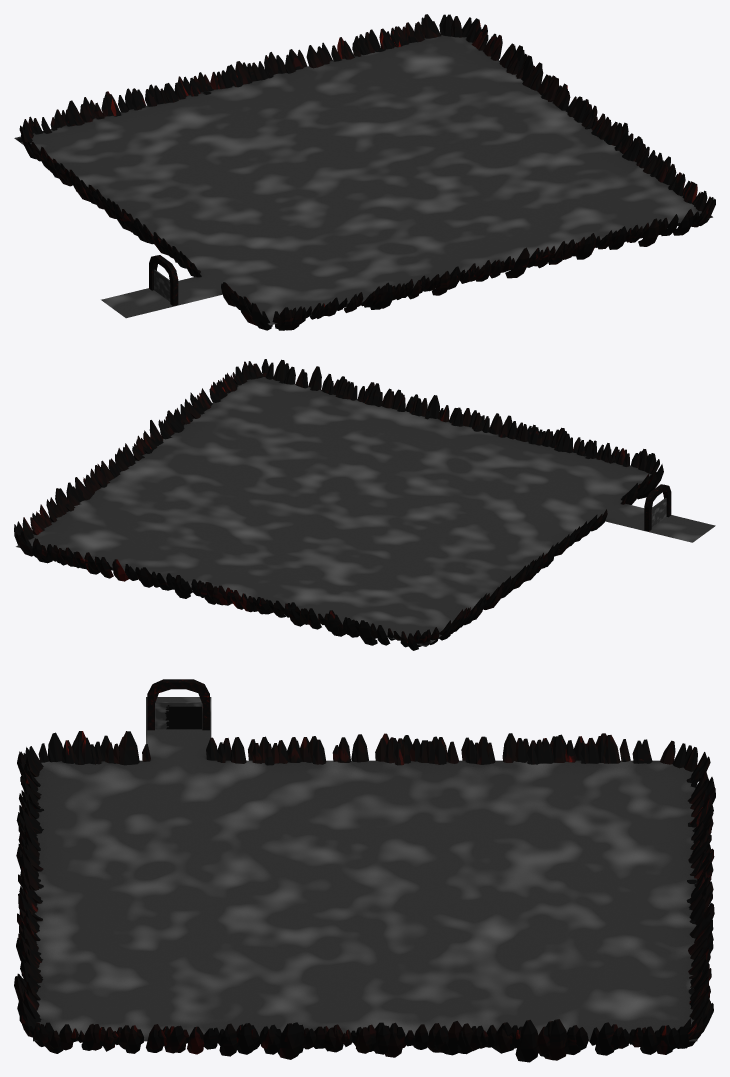
File: PlaceholderScene_231020.fbx
3 views of the same model, one above another, from view 1: azimuth 30°, elevation 25°; view 2: azimuth 150°, elevation 25°; view 3: azimuth 270°, elevation 25° (orthographic). The views are drawn at different scales.
Visible parts, largest first — view 1: Ground, Walls, Arch; view 2: Ground, Walls, Arch; view 3: Ground, Walls, Gate, Arch.
Boxes of the visible parts, x1,y1,x2,y2 form: Ground: [14, 35, 712, 325]; Walls: [19, 14, 715, 330]; Arch: [149, 255, 178, 305]; Ground: [16, 377, 715, 646]; Walls: [14, 359, 663, 650]; Arch: [644, 484, 671, 531]; Ground: [33, 697, 697, 1041]; Walls: [14, 731, 715, 1062]; Gate: [155, 702, 201, 729]; Arch: [147, 679, 209, 730].
Size of the model in its own units: 157 by 15.48 by 132.
